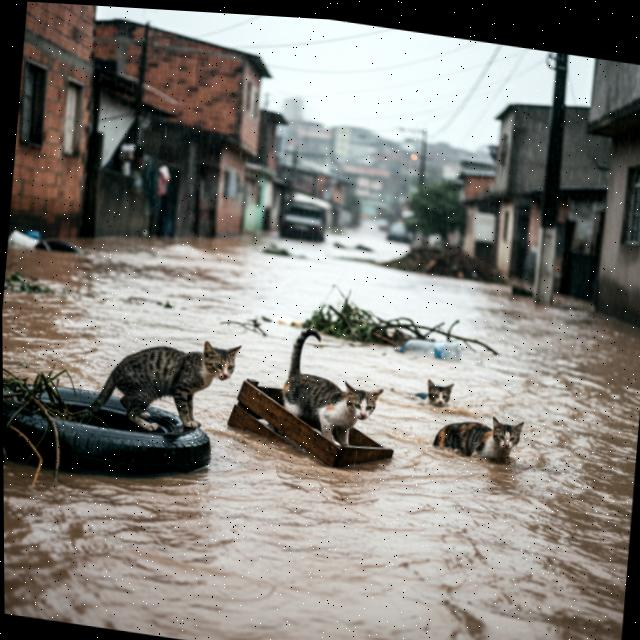cat: (90, 313, 242, 454), (271, 321, 380, 459), (429, 401, 532, 474), (409, 365, 458, 413)
